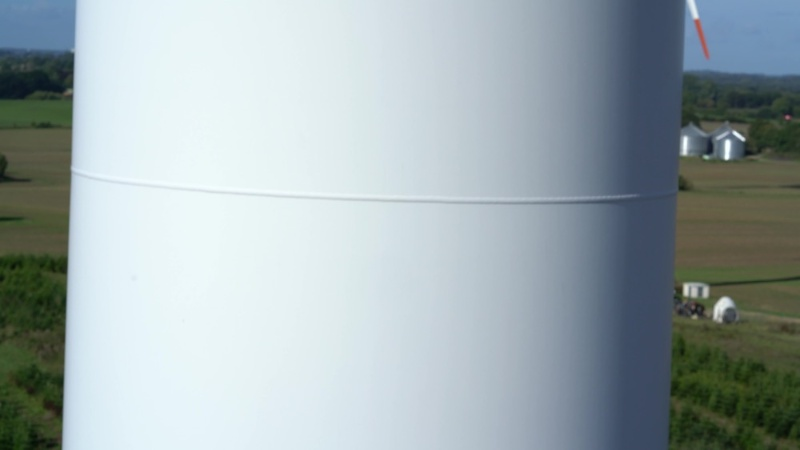weldseam: (70, 159, 680, 217)
